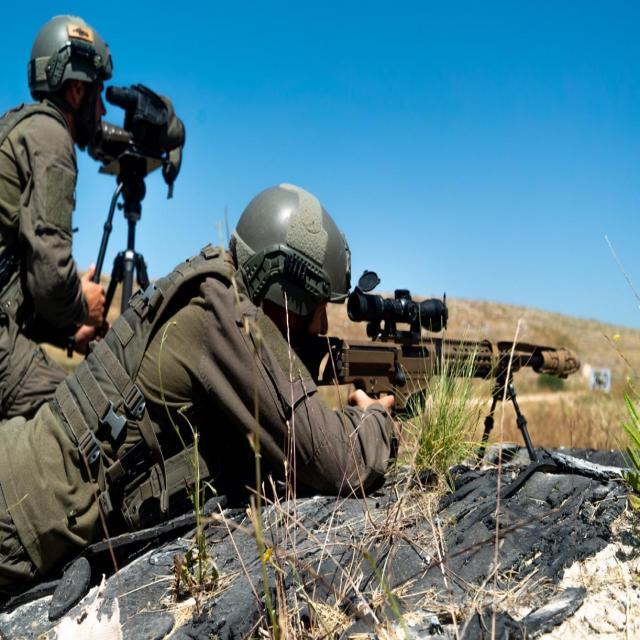rifle: (292, 271, 592, 413)
